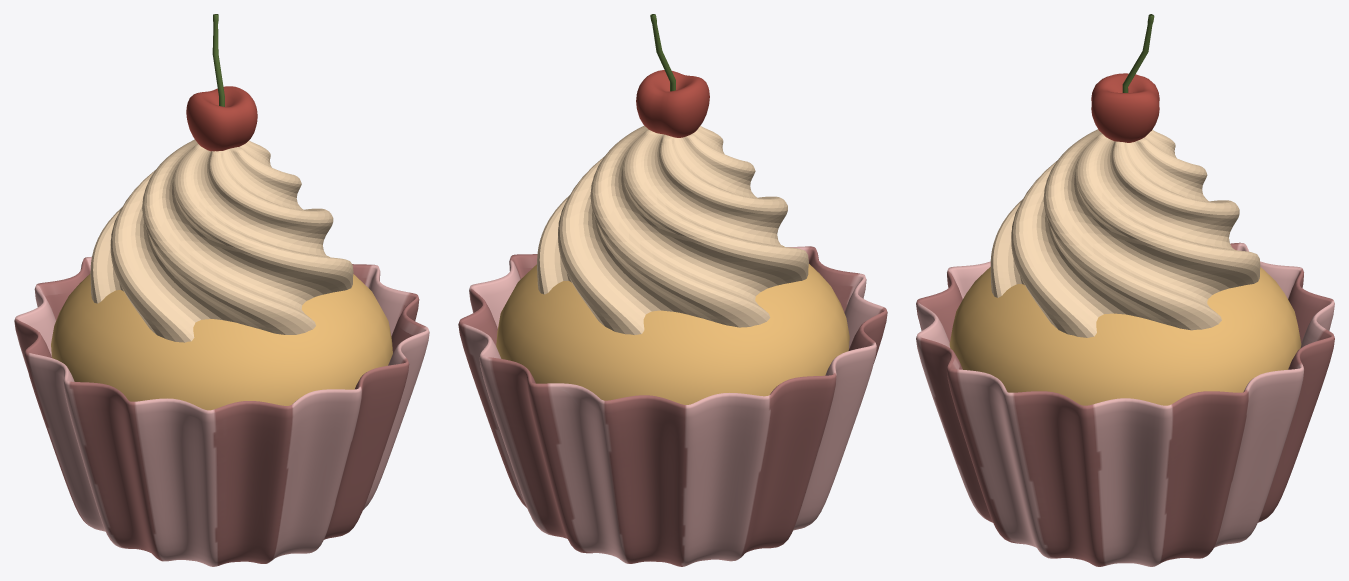
Rendered from cupcake.fbx.
3 renders of one model, left to right at view 1: azimuth 30°, elevation 25°; view 2: azimuth 150°, elevation 25°; view 3: azimuth 270°, elevation 25°, orthographic. The views are drawn at different scales.
Parts seen in each view (by area): view 1: cupcake, 柱体.001, 球体, 球体.001, 柱体.002; view 2: cupcake, 柱体.001, 球体, 球体.001; view 3: cupcake, 柱体.001, 球体, 球体.001, 柱体.002.
Boxes of the visible parts, x1,y1,x2,y2 form: cupcake: (14,256,429,566); 柱体.001: (90,139,353,342); 球体: (51,256,392,410); 球体.001: (186,86,257,151); 柱体.002: (212,14,224,106); cupcake: (458,246,887,566); 柱体.001: (537,125,808,334); 球体: (496,245,849,404); 球体.001: (636,70,709,137); cupcake: (916,242,1334,566); 柱体.001: (990,129,1260,337); 球体: (949,250,1301,405); 球体.001: (1091,73,1159,142); 柱体.002: (1122,14,1154,92).
Size of the model in its own units: 8.21 by 10.93 by 8.21.
